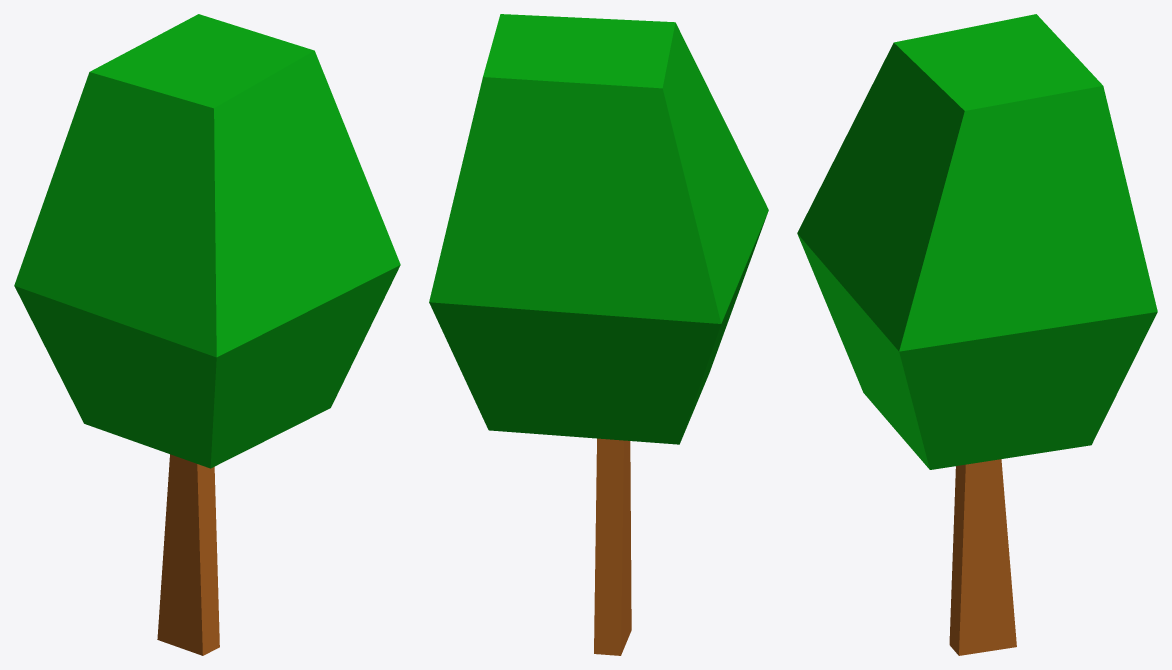
The model's file is arbre1.FBX.
3 renders of one model, left to right at view 1: azimuth 30°, elevation 25°; view 2: azimuth 150°, elevation 25°; view 3: azimuth 270°, elevation 25°, orthographic. The views are drawn at different scales.
Visible parts, largest first — view 1: Box630, Box625; view 2: Box630, Box625; view 3: Box630, Box625.
Boxes of the visible parts, x1,y1,x2,y2 form: Box630: (14,14,400,468); Box625: (157,454,219,655); Box630: (429,14,768,444); Box625: (594,438,631,655); Box630: (797,14,1157,469); Box625: (949,459,1016,655).
Bounding box in the file's own units: 78.98 × 138 × 76.1.
